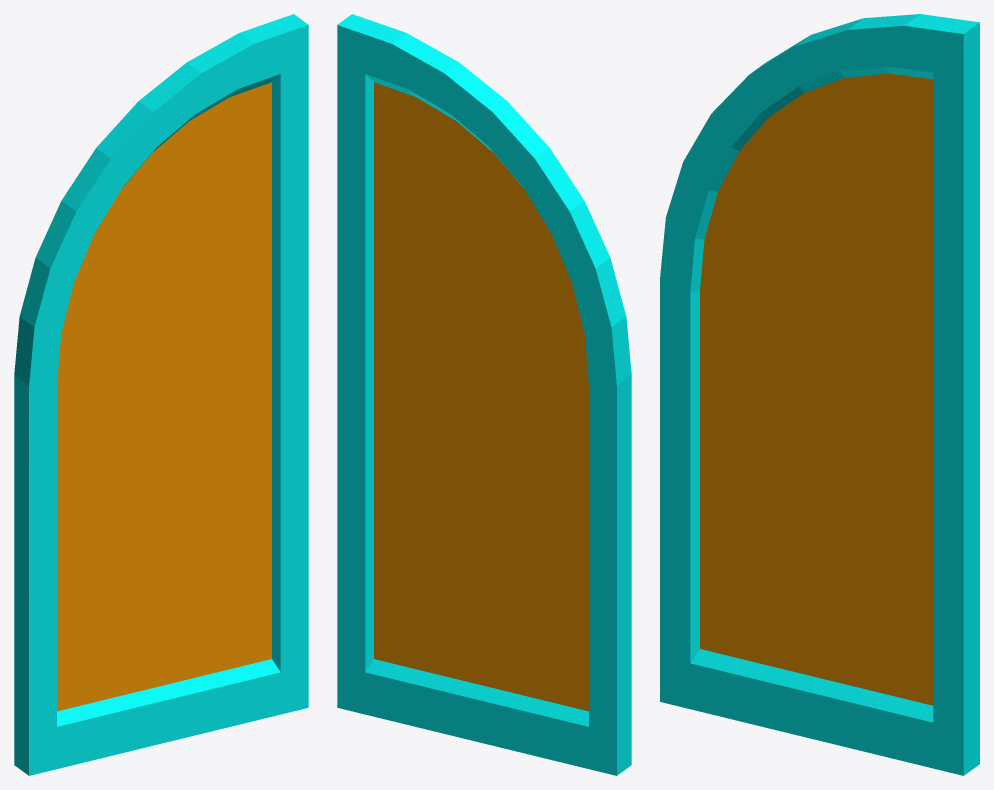
File: DOOR_1.fbx
3 views of the same model, side by side, from view 1: azimuth 30°, elevation 25°; view 2: azimuth 150°, elevation 25°; view 3: azimuth 330°, elevation 25° (orthographic). The views are drawn at different scales.
Parts seen in each view (by area): view 1: DOOR_1; view 2: DOOR_1; view 3: DOOR_1.
Boxes of the visible parts, x1=… form: DOOR_1: x1=14, y1=14, x2=308, y2=775; DOOR_1: x1=337, y1=14, x2=631, y2=775; DOOR_1: x1=660, y1=14, x2=979, y2=775.
Bounding box in the file's own units: 150 × 350 × 13.82.
